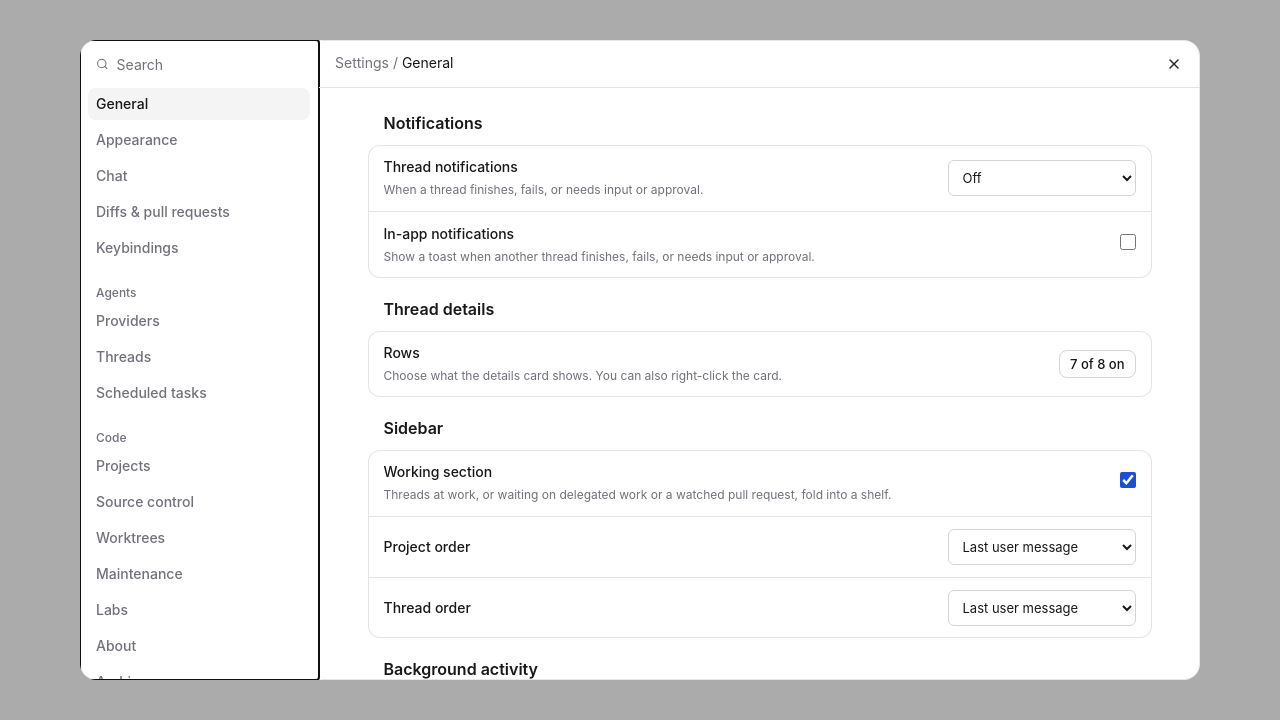
Scenario: navigates from an exact result to an asynchronously loaded row inside Advanced
This screenshot has width=1280, height=720.
Type "Branch prefix" into the search field named "Search settings" at point(209, 64), box top-left (117, 50), bottom-right (302, 78)
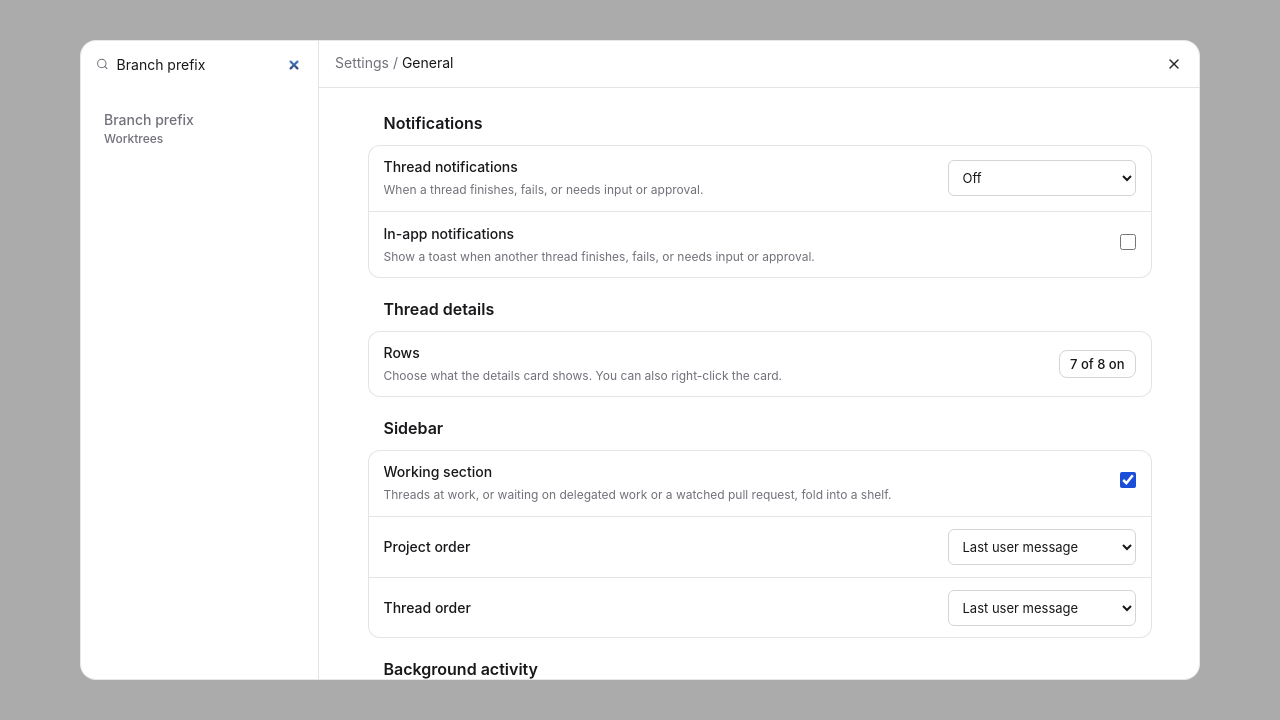
Click the link with aria-label "Branch prefix · Worktrees" at point(149, 128), box top-left (104, 111), bottom-right (194, 146)
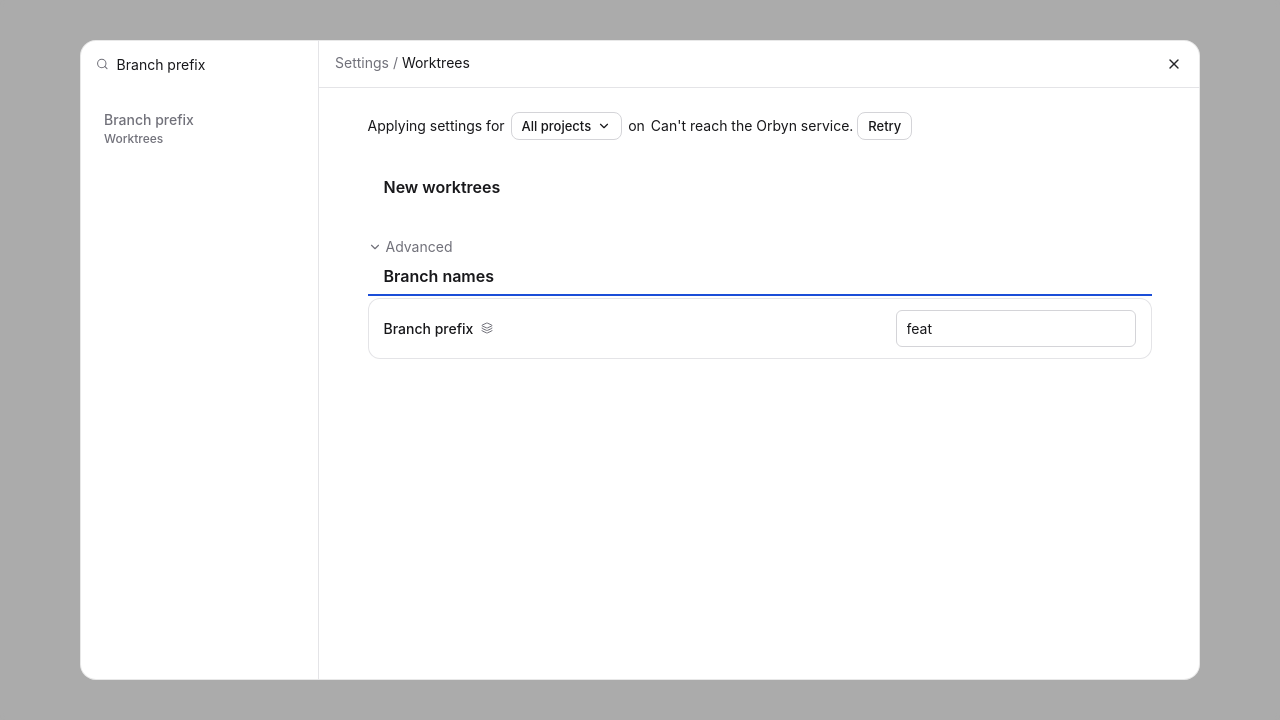
Choosing the same result again must reveal it after a manual close.
Click the button "Advanced" at point(419, 246), box top-left (368, 229), bottom-right (1152, 265)
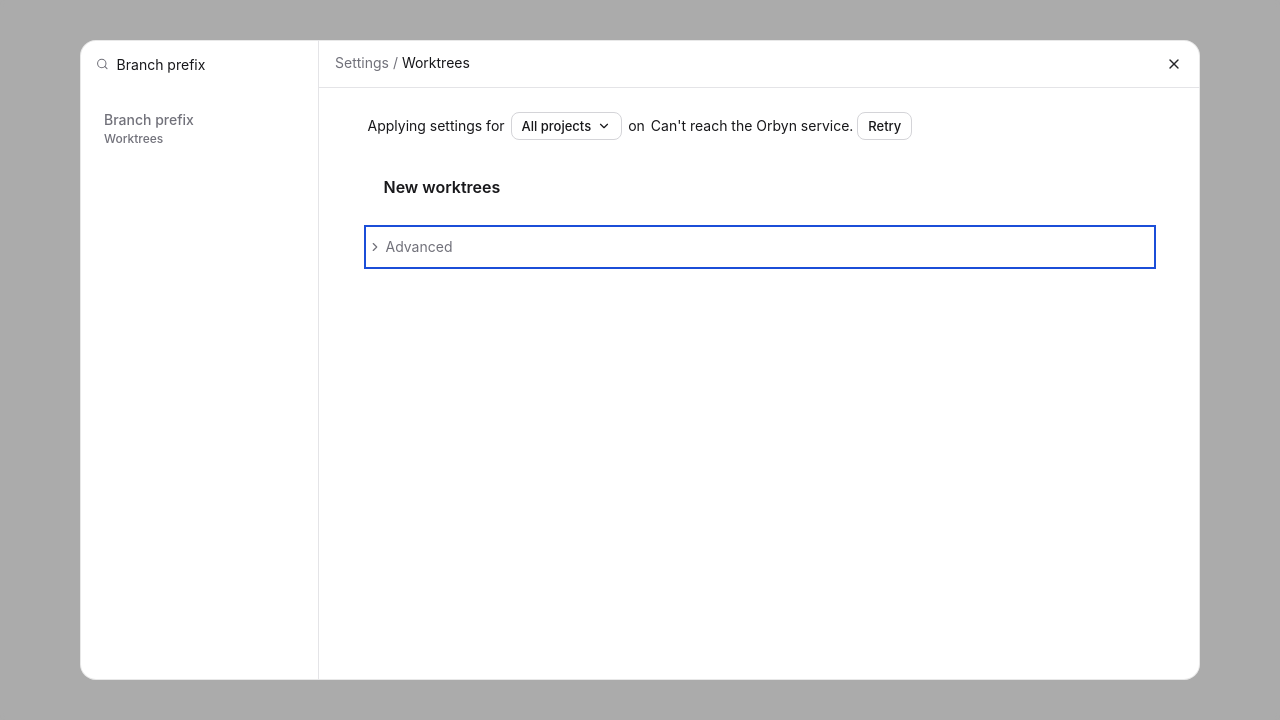
Click the link with aria-label "Branch prefix · Worktrees" at point(149, 128), box top-left (104, 111), bottom-right (194, 146)
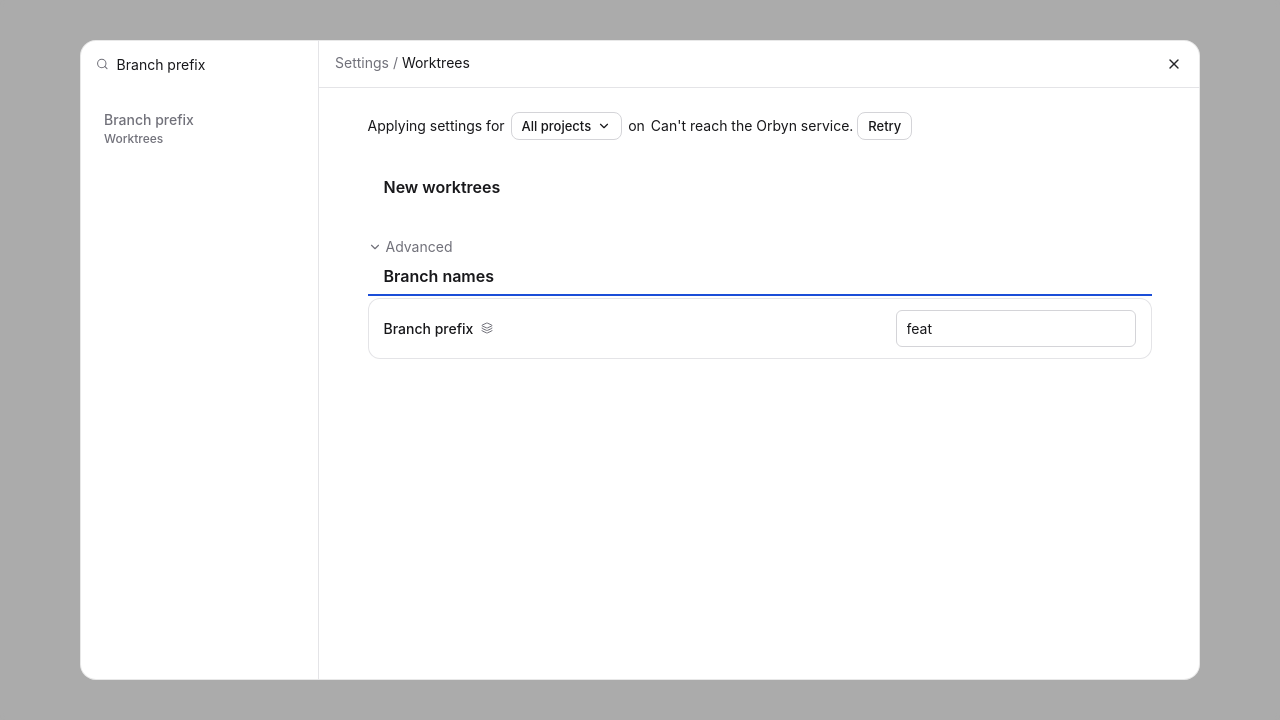
Replace the text in the search field named "Search settings" with "unmatched setting" at point(209, 64), box top-left (117, 50), bottom-right (302, 78)
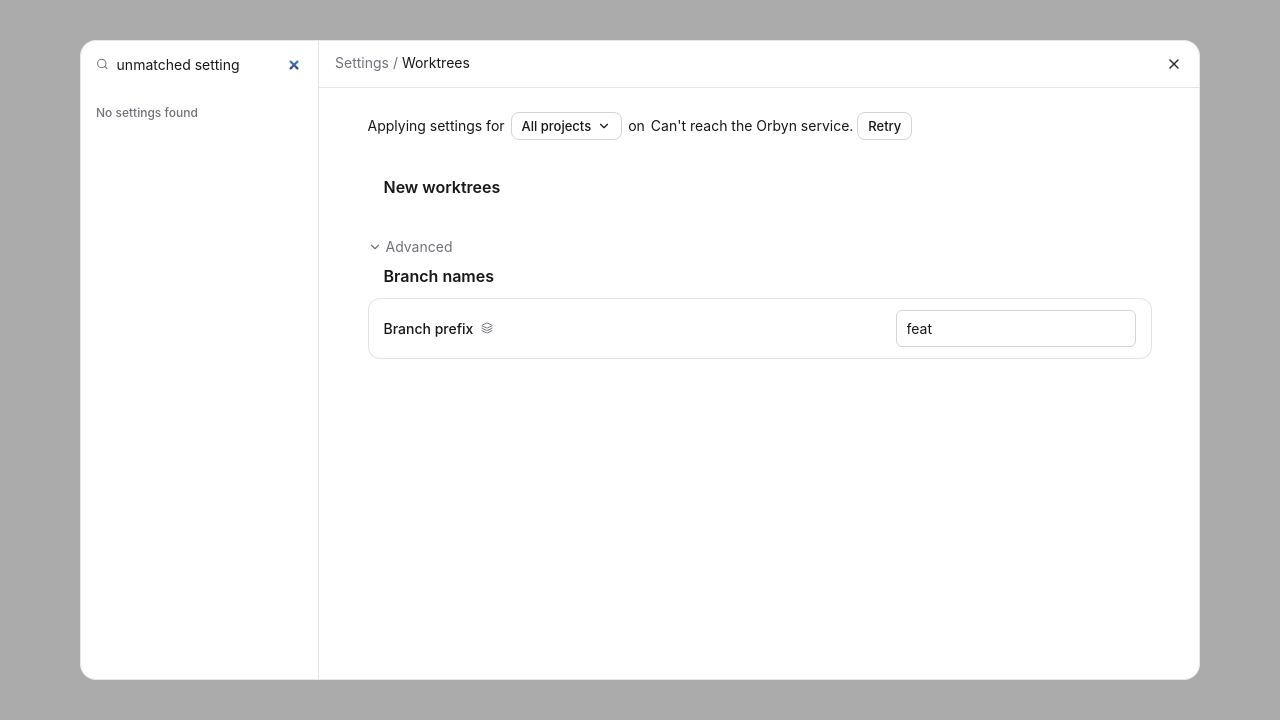
Expected: the message "No settings found" is shown, top-left (96, 105), bottom-right (198, 120)
